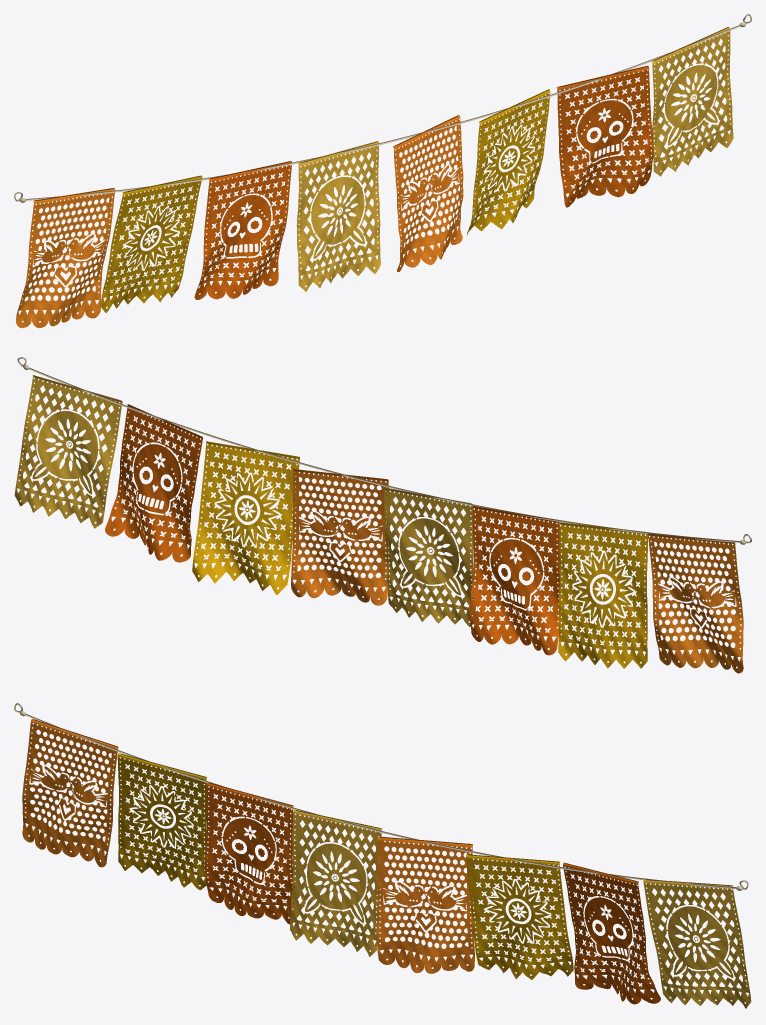
Rendered from w3_altar_papelstrip_c.glb.
The picture shows the model from 3 angles, top to bottom: view 1: azimuth 30°, elevation 25°; view 2: azimuth 150°, elevation 25°; view 3: azimuth 330°, elevation 25°; orthographic projection.
Parts seen in each view (by area): view 1: w3_altar_papelstrip_c; view 2: w3_altar_papelstrip_c; view 3: w3_altar_papelstrip_c.
Boxes of the visible parts, box(x1,y1,x2,y2) form: w3_altar_papelstrip_c: box(14, 14, 751, 328); w3_altar_papelstrip_c: box(14, 357, 751, 673); w3_altar_papelstrip_c: box(14, 703, 751, 1008).
Size of the model in its own units: 2.43 by 0.5269 by 0.1887.
Materials: 2 (2 with a texture image).
